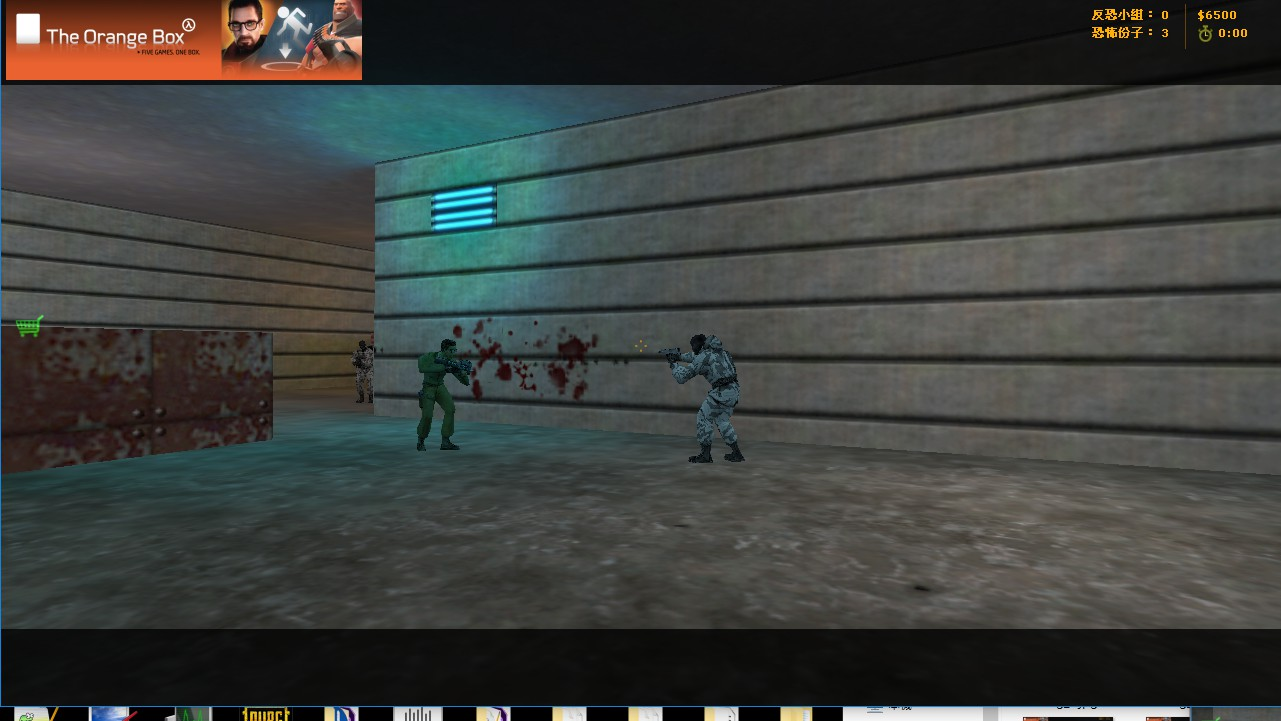person: (661, 328, 750, 463), (405, 334, 479, 463), (349, 338, 380, 408)
